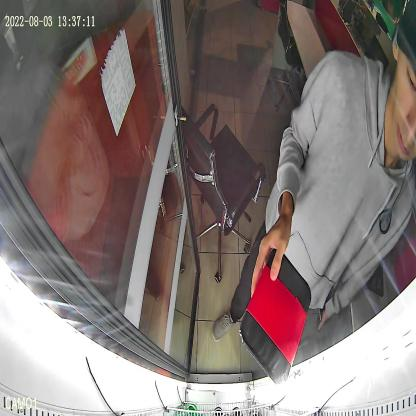red: (239, 246, 312, 384)
